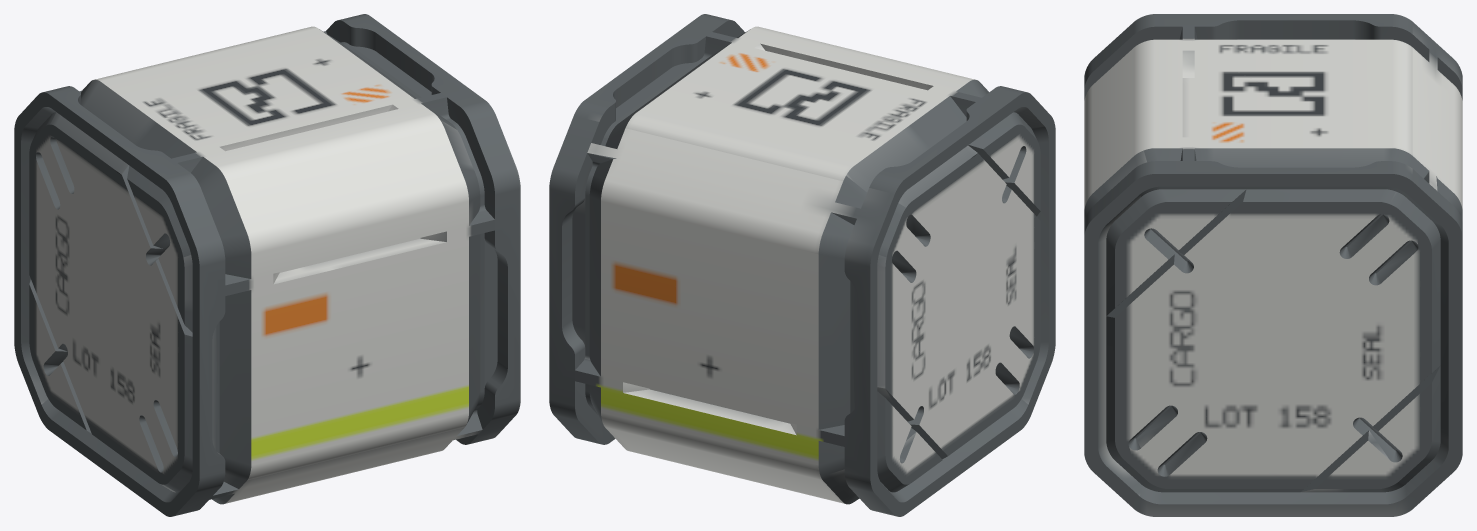
File: short-box.glb
3 renders of one model, left to right at view 1: azimuth 30°, elevation 25°; view 2: azimuth 150°, elevation 25°; view 3: azimuth 270°, elevation 25°, orthographic. The views are drawn at different scales.
Visible parts, largest first — view 1: short-box-low; view 2: short-box-low; view 3: short-box-low.
Boxes of the visible parts, x1,y1,x2,y2 form: short-box-low: (14, 14, 520, 516); short-box-low: (549, 14, 1055, 516); short-box-low: (1084, 14, 1462, 516).
Bounding box in the file's own units: 25 × 25 × 25.
1 material, 1 textured.
